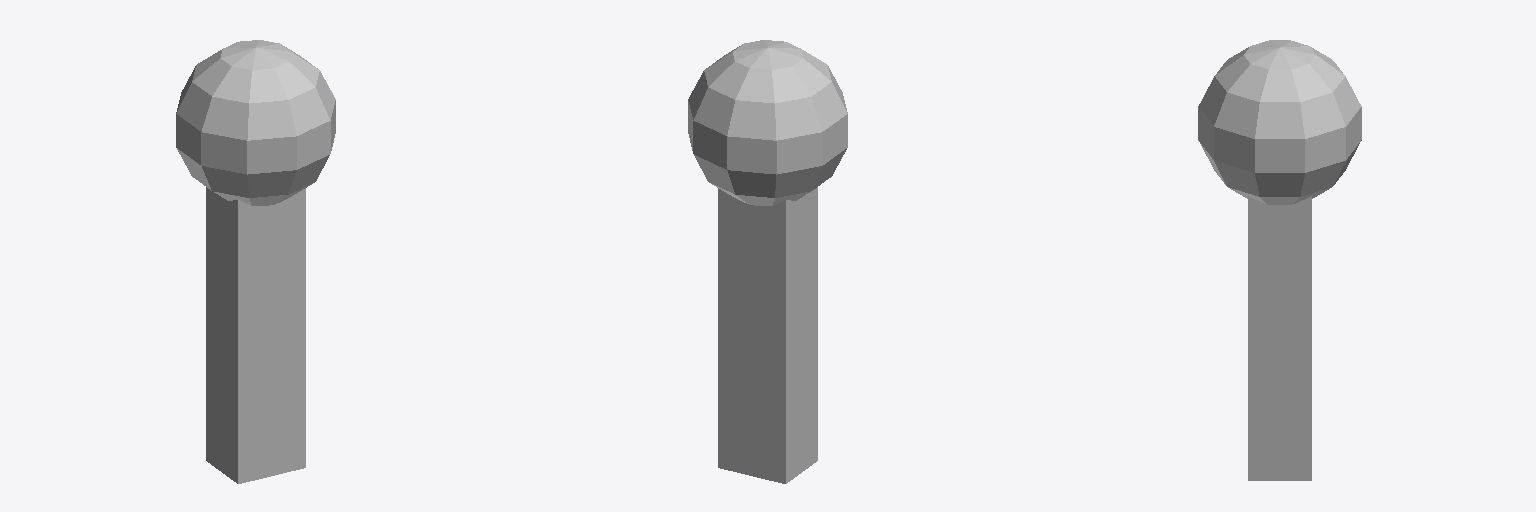
Rendered from player.obj.
3 views of the same model, side by side, from view 1: azimuth 30°, elevation 25°; view 2: azimuth 150°, elevation 25°; view 3: azimuth 270°, elevation 25° (orthographic).
Visible parts, largest first — view 1: Cube_Cube.001, Sphere_Sphere.001; view 2: Cube_Cube.001, Sphere_Sphere.001; view 3: Sphere_Sphere.001, Cube_Cube.001.
Part boxes in pixels (left/top/right/bottom): Cube_Cube.001: left=206, top=187, right=305, bottom=483; Sphere_Sphere.001: left=176, top=40, right=335, bottom=205; Cube_Cube.001: left=718, top=187, right=817, bottom=483; Sphere_Sphere.001: left=688, top=40, right=847, bottom=205; Sphere_Sphere.001: left=1198, top=40, right=1361, bottom=204; Cube_Cube.001: left=1248, top=196, right=1311, bottom=480.
Size of the model in its own units: 0.6618 by 1.96 by 0.6959.